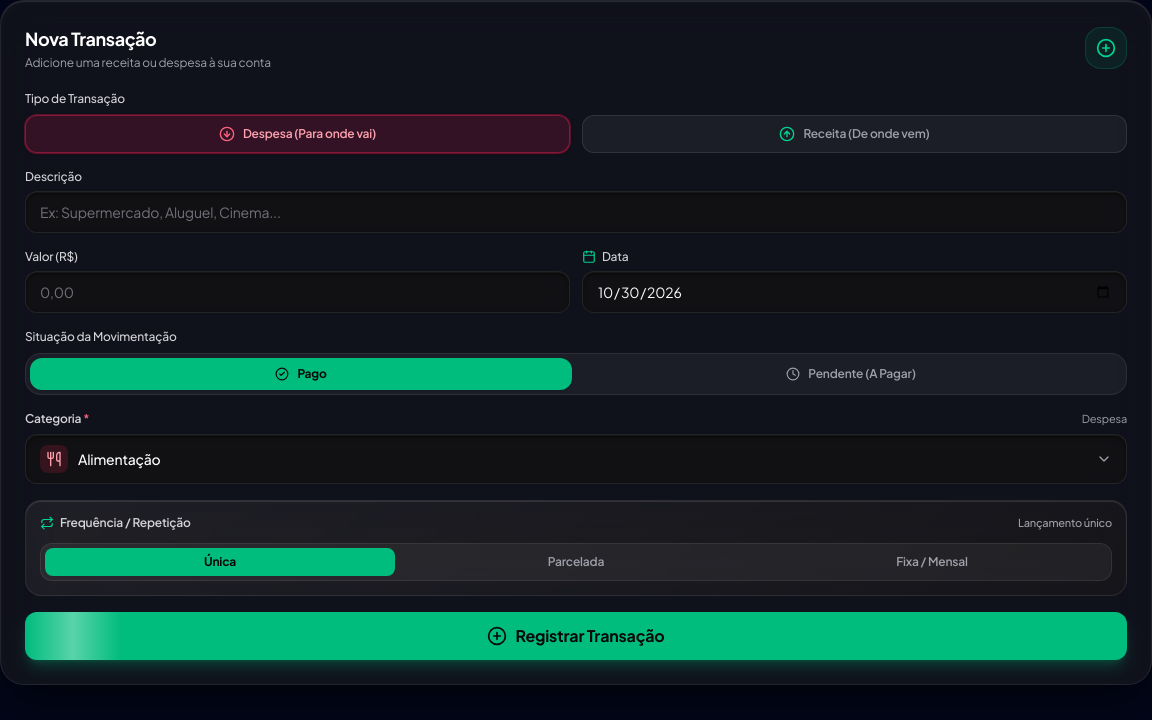
Scenario: <TransactionForm /> (Interação do Usuário & Formulário) › deve auto-sugerir a categoria ao digitar palavras-chave conhecidas na descrição
Type "Gasolina aditivada" into the field with test id "input-title" at {"x": 576, "y": 212}, box [25, 191, 1127, 233]
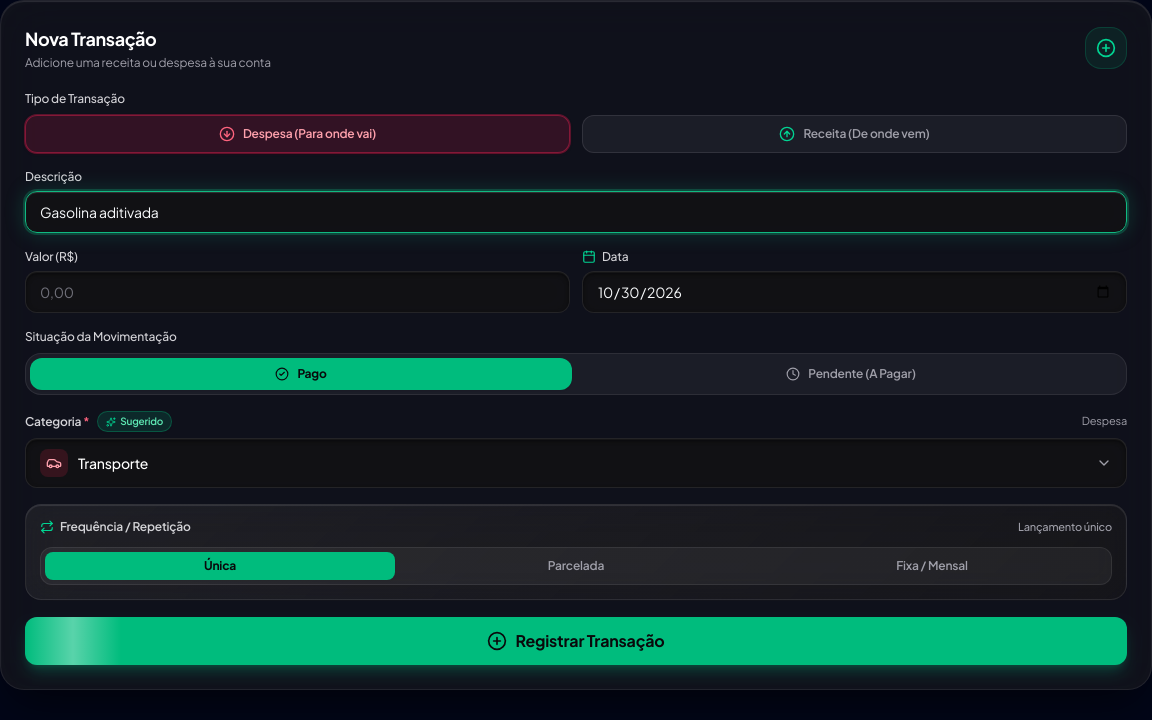
Check: the element with test id "input-category" holds "Transporte", box [25, 411, 1127, 488]
Check: the text "Sugerido" is shown, box [97, 411, 172, 432]
